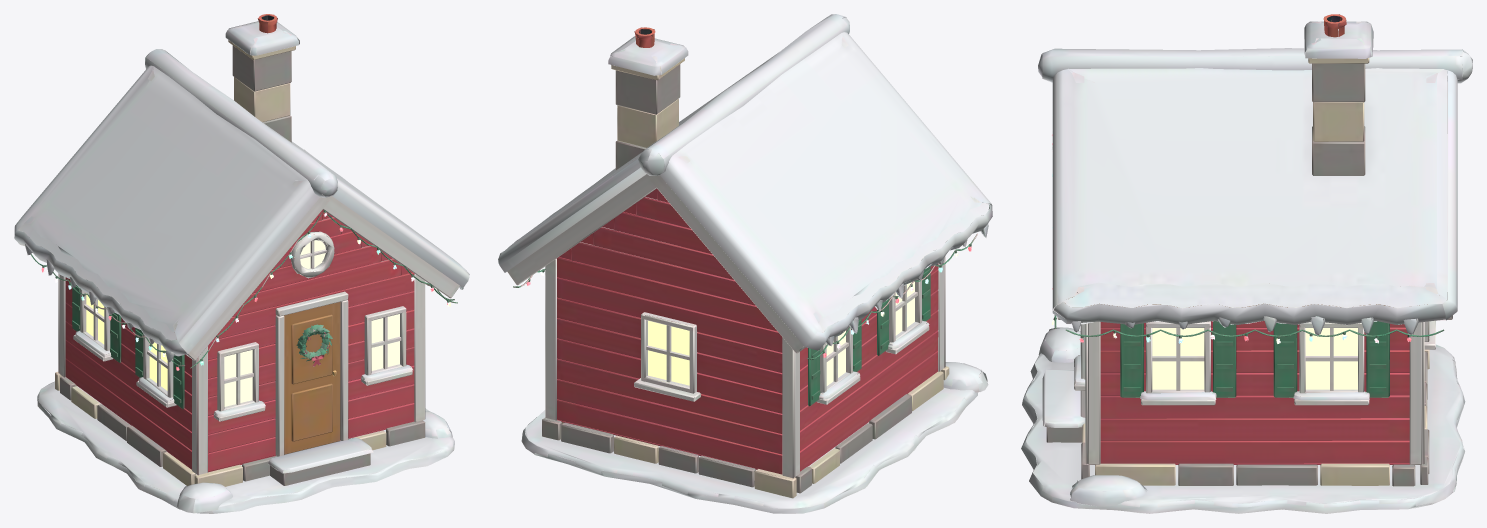
File: cabana_nevada.glb
3 renders of one model, left to right at view 1: azimuth 30°, elevation 25°; view 2: azimuth 150°, elevation 25°; view 3: azimuth 270°, elevation 25°, orthographic. The views are drawn at different scales.
Parts seen in each view (by area): view 1: snowy-cabin_body; view 2: snowy-cabin_body; view 3: snowy-cabin_body.
Part boxes in pixels (<box>): snowy-cabin_body: <box>14,14,469,513</box>; snowy-cabin_body: <box>498,14,992,513</box>; snowy-cabin_body: <box>1021,14,1472,513</box>.
Bounding box in the file's own units: 4.32 × 4.96 × 4.6.
Materials: 7 (1 with a texture image).
